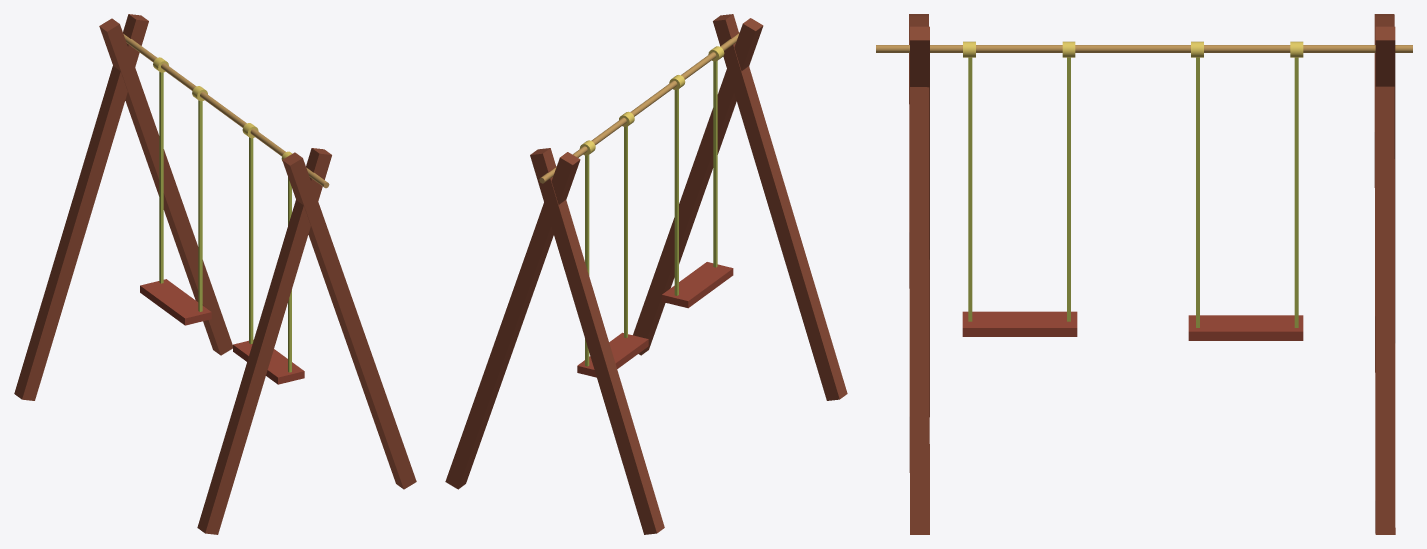
The model's file is M_Swing.fbx.
3 renders of one model, left to right at view 1: azimuth 30°, elevation 25°; view 2: azimuth 150°, elevation 25°; view 3: azimuth 270°, elevation 25°, orthographic. The views are drawn at different scales.
Parts seen in each view (by area): view 1: Box005; view 2: Box005; view 3: Box005.
Part boxes in pixels (x1,y1,x2,y2): Box005: (14, 14, 416, 534); Box005: (445, 14, 847, 534); Box005: (876, 14, 1412, 534).
Bounding box in the file's own units: 334 × 538 × 576.
